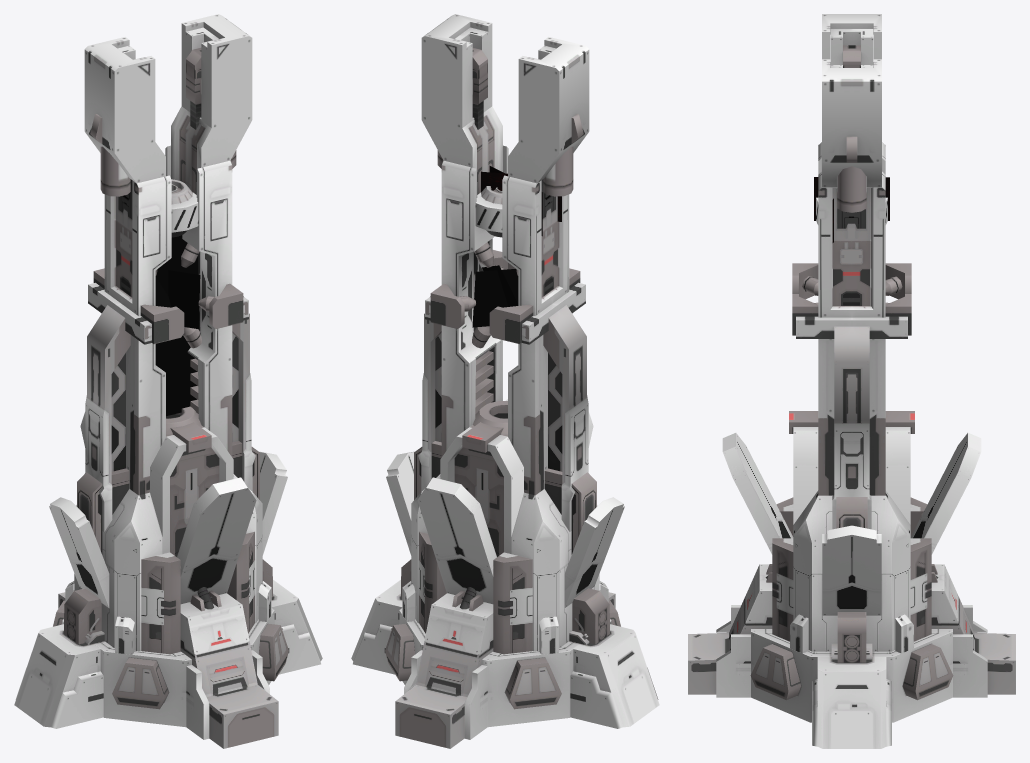
The model's file is turret-shield.glb.
3 renders of one model, left to right at view 1: azimuth 30°, elevation 25°; view 2: azimuth 150°, elevation 25°; view 3: azimuth 270°, elevation 25°, orthographic.
Visible parts, largest first — view 1: turret-shield, turret-shield-eff; view 2: turret-shield, turret-shield-eff; view 3: turret-shield.
Part boxes in pixels (left/top/right/bottom): turret-shield: left=14, top=14, right=322, bottom=748; turret-shield-eff: left=155, top=235, right=200, bottom=416; turret-shield: left=351, top=14, right=659, bottom=748; turret-shield-eff: left=472, top=166, right=561, bottom=327; turret-shield: left=688, top=14, right=1015, bottom=748.
Size of the model in its own units: 6.61 by 14.5 by 6.77.
2 materials, 2 textured.
